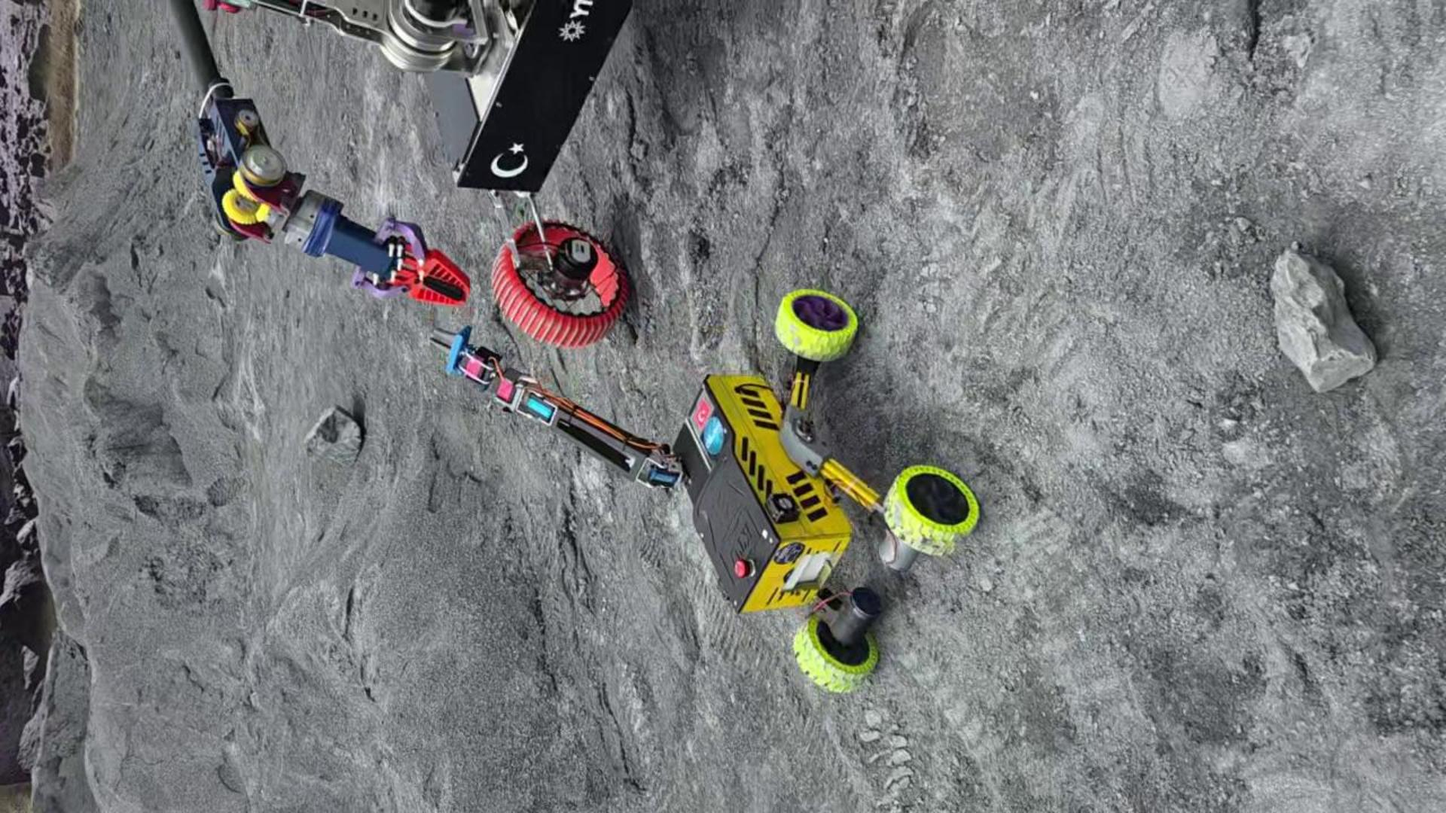rock: (1270, 243, 1375, 392), (303, 406, 363, 464)
